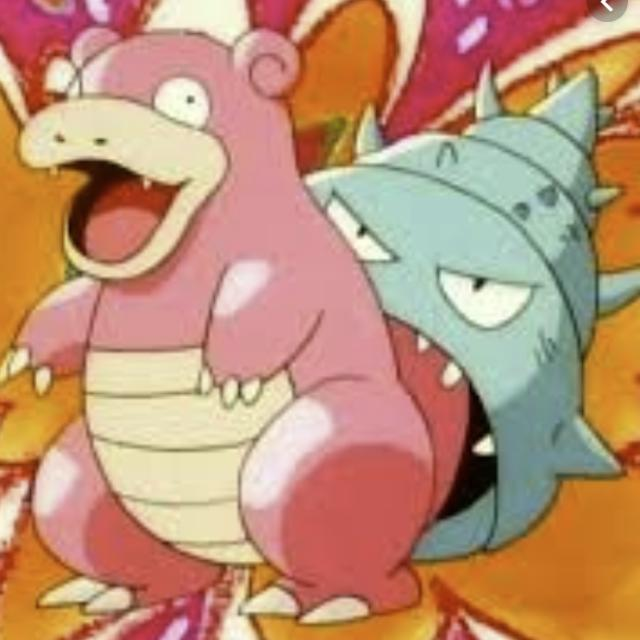Slowbro: (25, 2, 563, 598)
